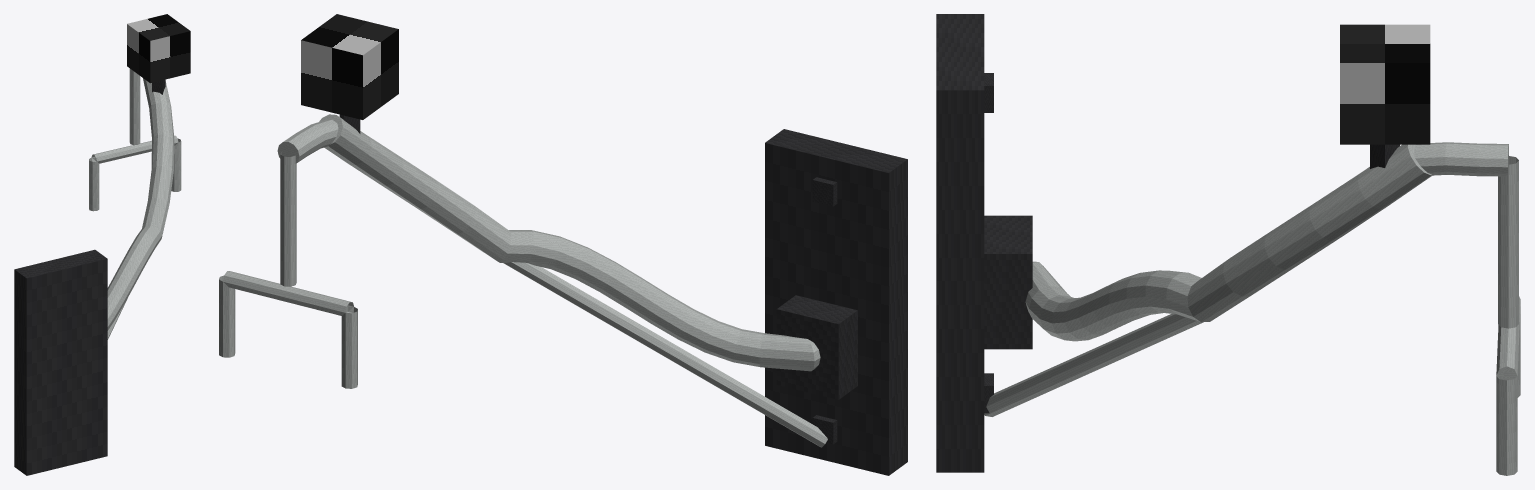
File: arm_1_right_flood_down.obj
The picture shows the model from 3 angles, left to right: view 1: azimuth 30°, elevation 25°; view 2: azimuth 150°, elevation 25°; view 3: azimuth 270°, elevation 25°; orthographic projection. The views are drawn at different scales.
Visible parts, largest first — view 1: pole_light_mount_1_right_flood_down; view 2: pole_light_mount_1_right_flood_down; view 3: pole_light_mount_1_right_flood_down.
Part boxes in pixels (x1,y1,x2,y2): pole_light_mount_1_right_flood_down: (14, 14, 190, 475); pole_light_mount_1_right_flood_down: (219, 14, 907, 475); pole_light_mount_1_right_flood_down: (936, 14, 1520, 475).
Size of the model in its own units: 1.4 by 1.34 by 1.21.
